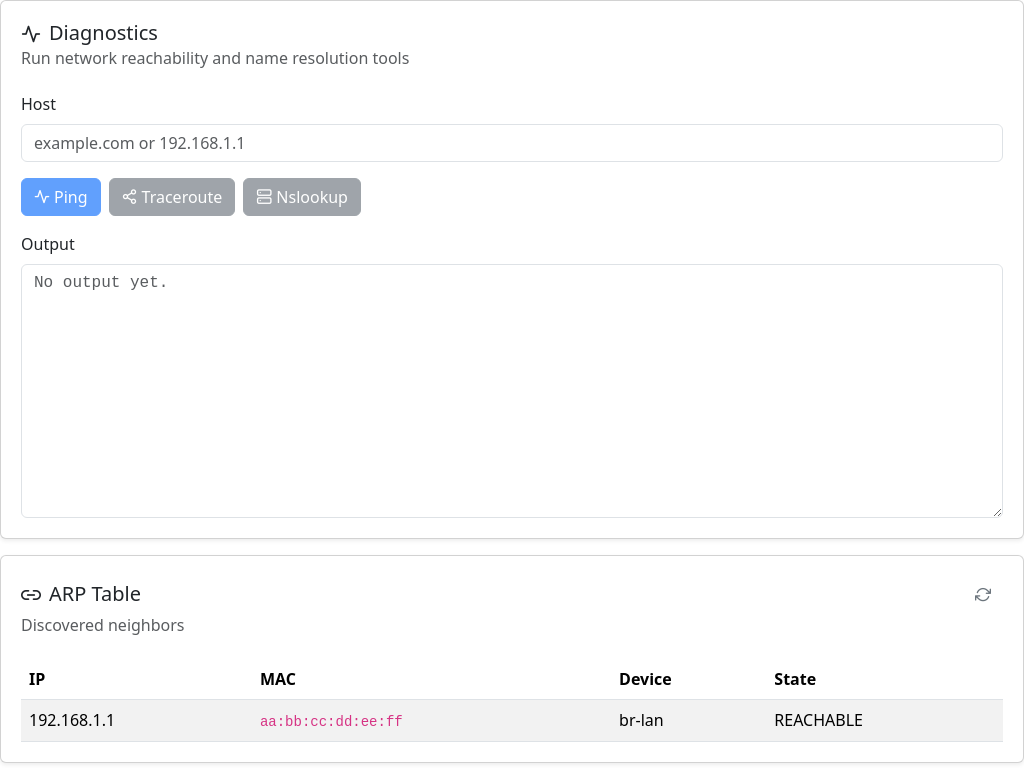
Scenario: DiagnosticsCard › disables every tool button until a host is entered
Expected: the button "Ping" is disabled, [21,178,101,216]
Expected: the button "Traceroute" is disabled, [109,178,235,216]
Type "example.com" into the field labelled "Host" at (512, 143), box [21,124,1003,162]
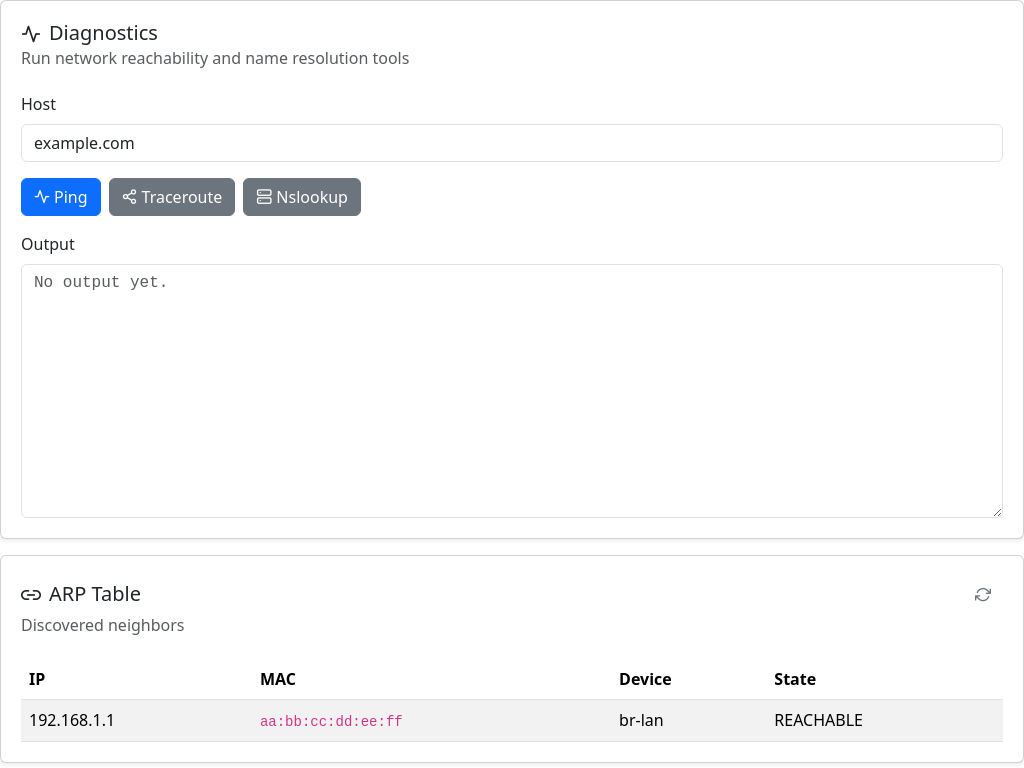
Result: the button "Ping" is enabled at [21,178,101,216]
